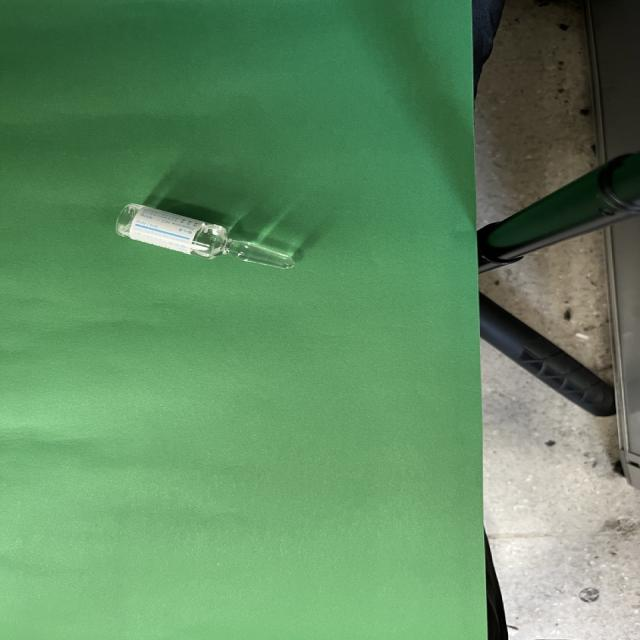Ampoules: (115, 202, 295, 268)
